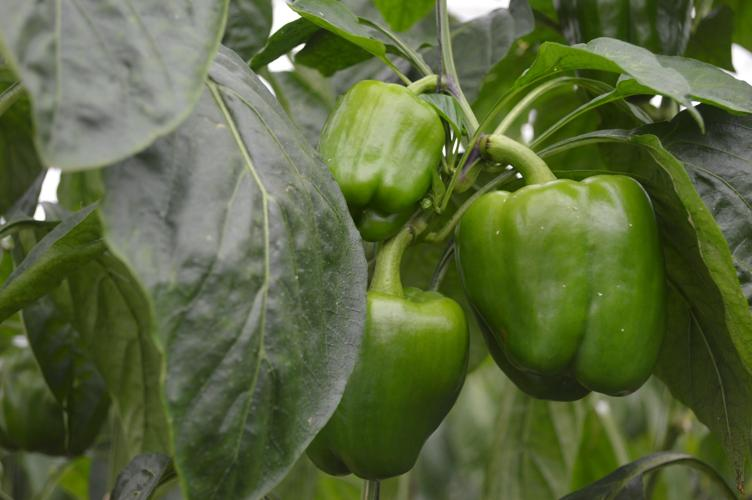BellPepper: (450, 179, 679, 405), (277, 285, 462, 486), (300, 77, 440, 233)
